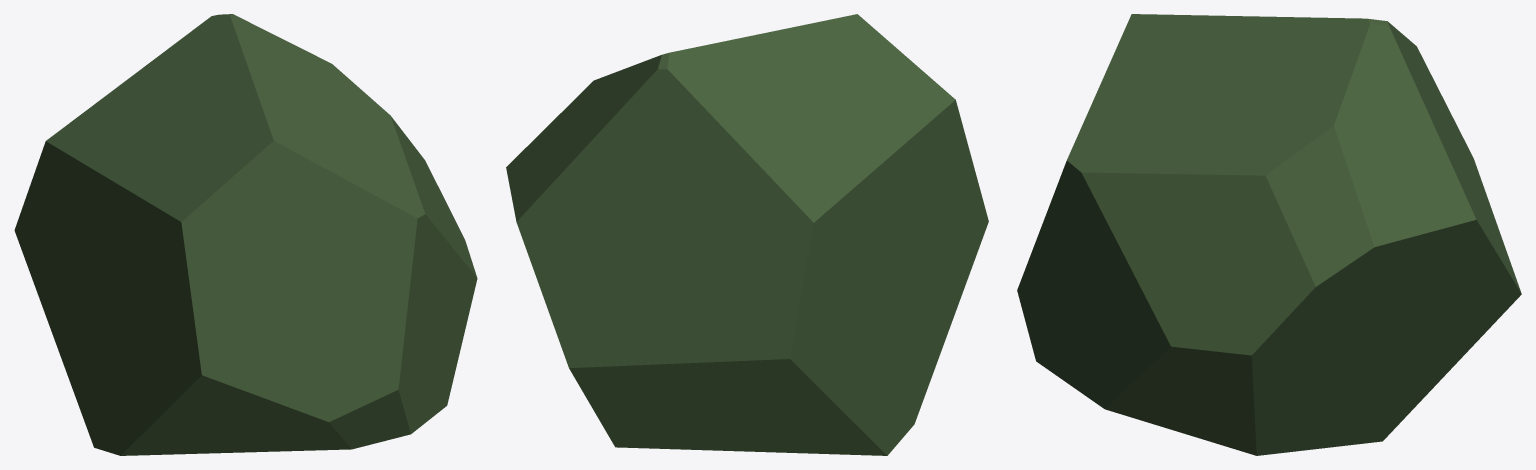
File: StoneMediumSmall2.fbx
3 views of the same model, side by side, from view 1: azimuth 30°, elevation 25°; view 2: azimuth 150°, elevation 25°; view 3: azimuth 270°, elevation 25° (orthographic). The views are drawn at different scales.
Parts seen in each view (by area): view 1: StoneMediumSmall2; view 2: StoneMediumSmall2; view 3: StoneMediumSmall2.
Boxes of the visible parts, x1,y1,x2,y2 form: StoneMediumSmall2: [14, 14, 477, 455]; StoneMediumSmall2: [506, 14, 988, 455]; StoneMediumSmall2: [1017, 14, 1521, 455].
Size of the model in its own units: 187 by 192 by 219.
Materials: 1 (1 with a texture image).
